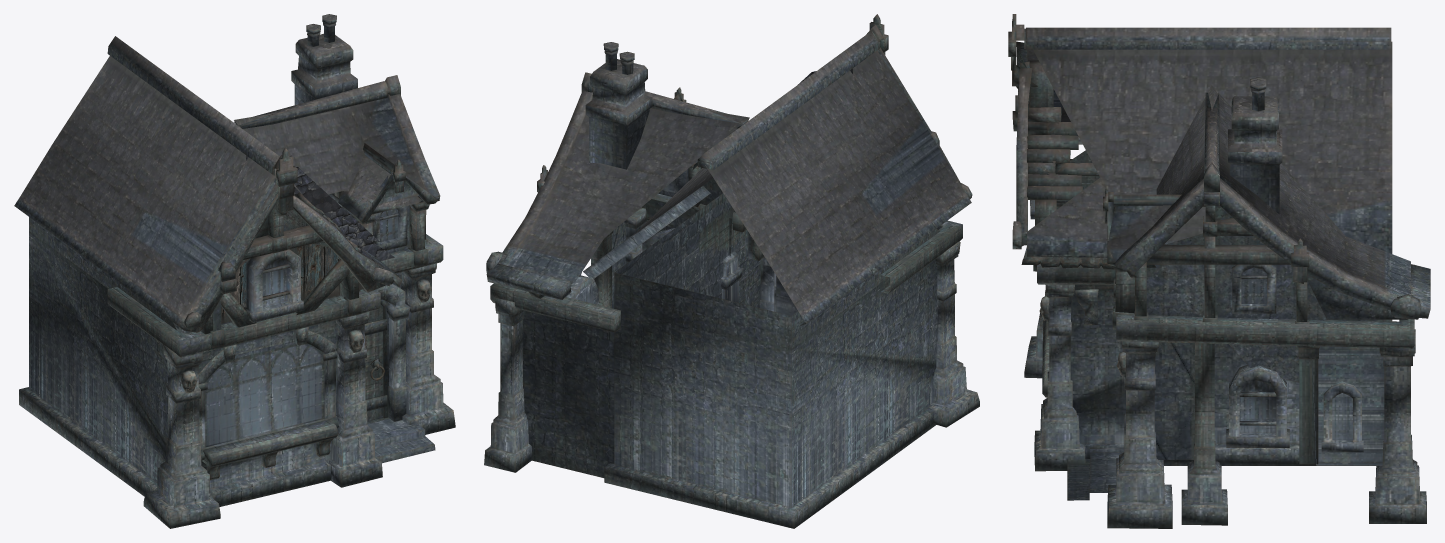
Rendered from building-wide.glb.
3 views of the same model, side by side, from view 1: azimuth 30°, elevation 25°; view 2: azimuth 150°, elevation 25°; view 3: azimuth 270°, elevation 25° (orthographic). The views are drawn at different scales.
Parts seen in each view (by area): view 1: tripo_node_3299135c-93fd-4ace-a6d0-11249f14a937, Recessed roof backing, Recessed gable infill; view 2: tripo_node_3299135c-93fd-4ace-a6d0-11249f14a937; view 3: tripo_node_3299135c-93fd-4ace-a6d0-11249f14a937.
Boxes of the visible parts, x1,y1,x2,y2 form: tripo_node_3299135c-93fd-4ace-a6d0-11249f14a937: (14,14,455,528); Recessed roof backing: (246,155,394,260); Recessed gable infill: (221,244,363,323); tripo_node_3299135c-93fd-4ace-a6d0-11249f14a937: (484,14,979,528); tripo_node_3299135c-93fd-4ace-a6d0-11249f14a937: (1008,14,1430,528).
Bounding box in the file's own units: 10 × 11.08 × 10.26.
3 materials, 3 textured.
